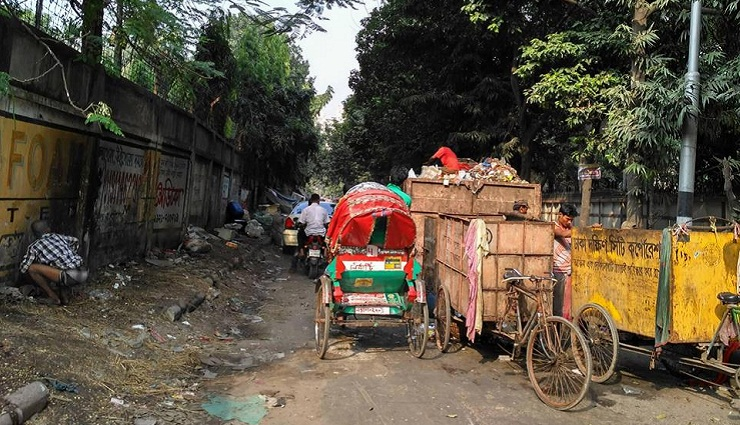car: (280, 199, 337, 250)
garbagevan: (431, 212, 593, 410)
motorbike: (297, 229, 325, 276)
rickshaw: (311, 182, 431, 361)
